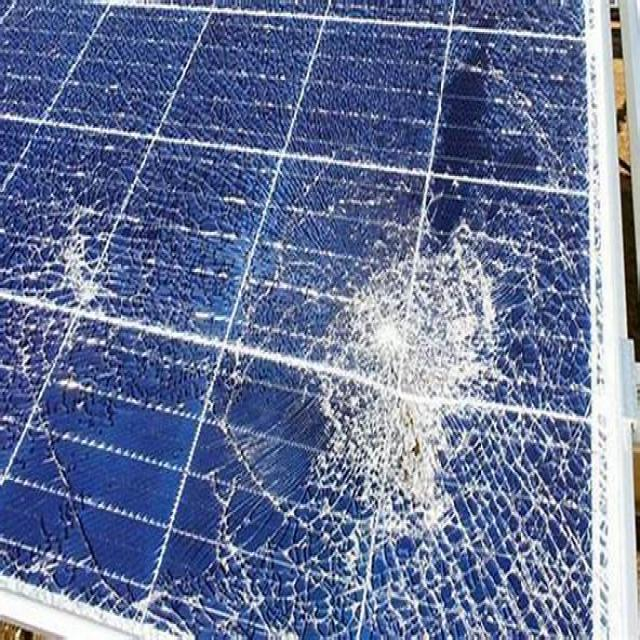physical damage: (2, 0, 629, 640)
